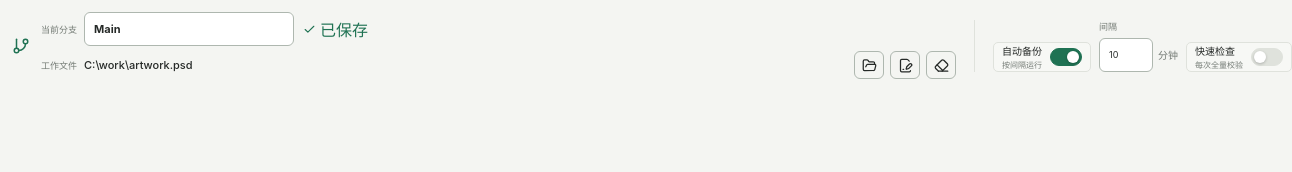
BranchSettings › clears the persisted working file path and closes automatic backup
Click the button titled "清除工作文件路径". click: (941, 65)
box: [926,51,956,79]
Wait 650 ms
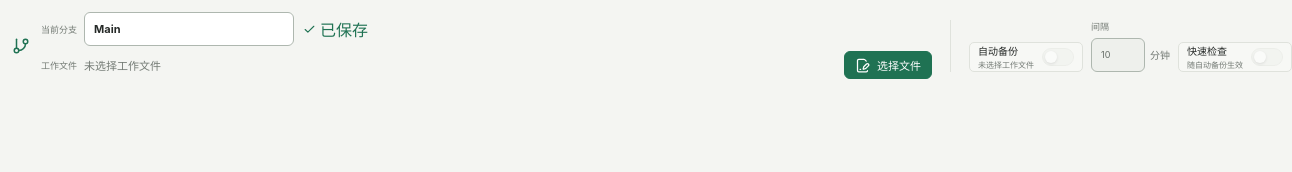
expect the text labelled "工作文件" below "已保存" reads "未选择工作文件": met, box [84,59,161,73]
